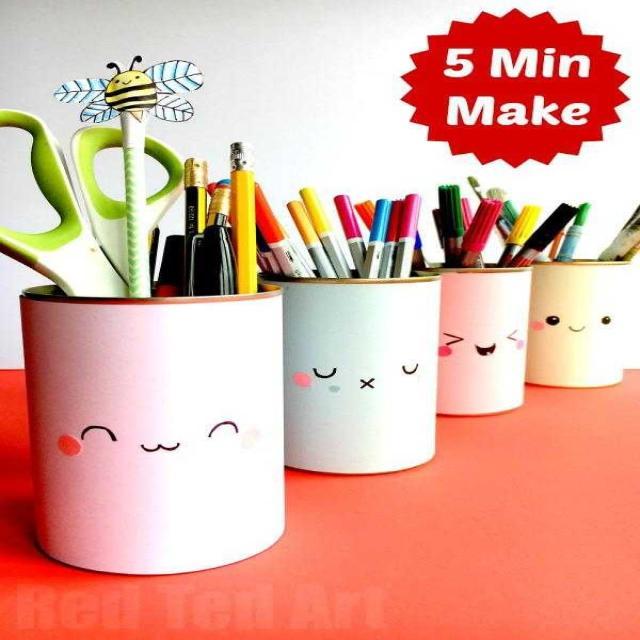pencil: (215, 127, 282, 305), (180, 170, 246, 310), (174, 151, 216, 308)
